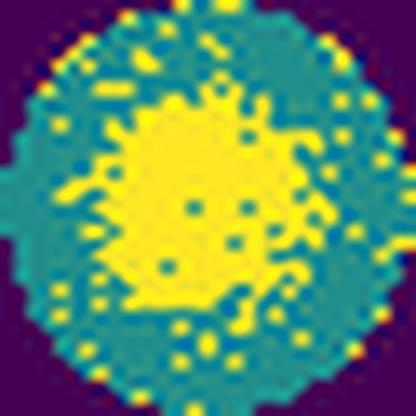Center: (56, 68, 337, 318)
